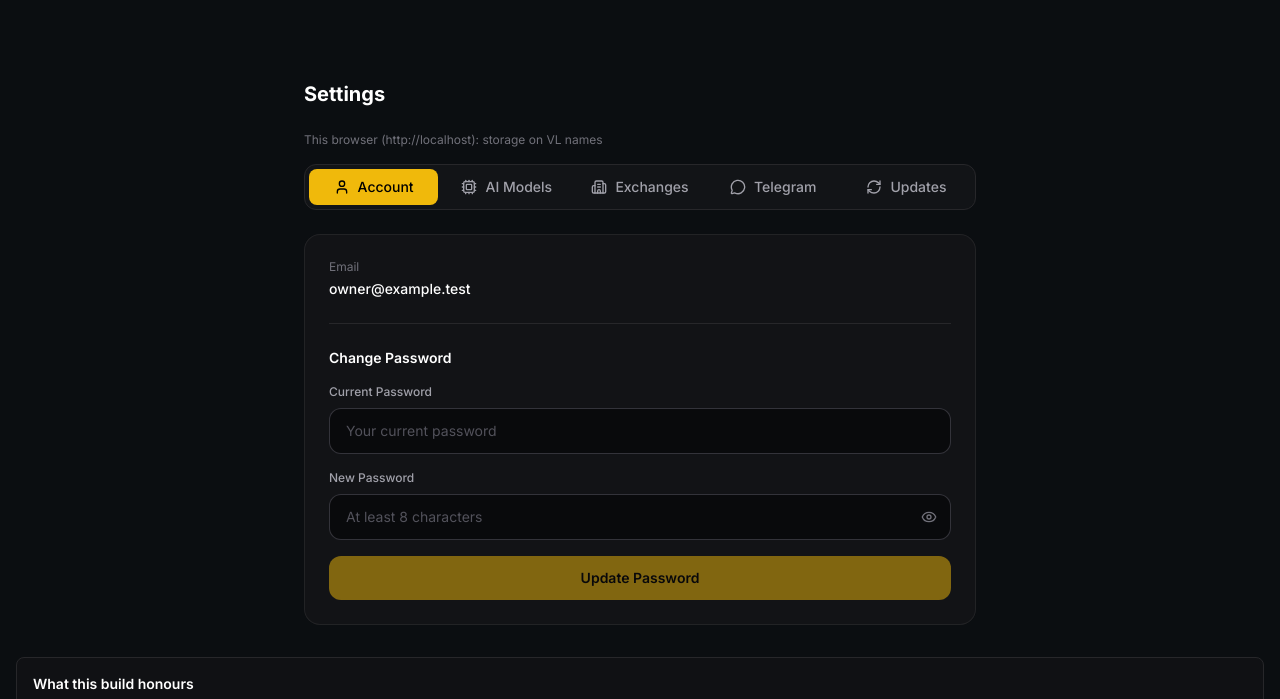
it: Settings → Account → Change password › shows the server 403 refusal text (wrong current password)
Type "a-wrong-guess" into the password field labelled "Current Password" at (640, 431), box [329, 408, 951, 454]
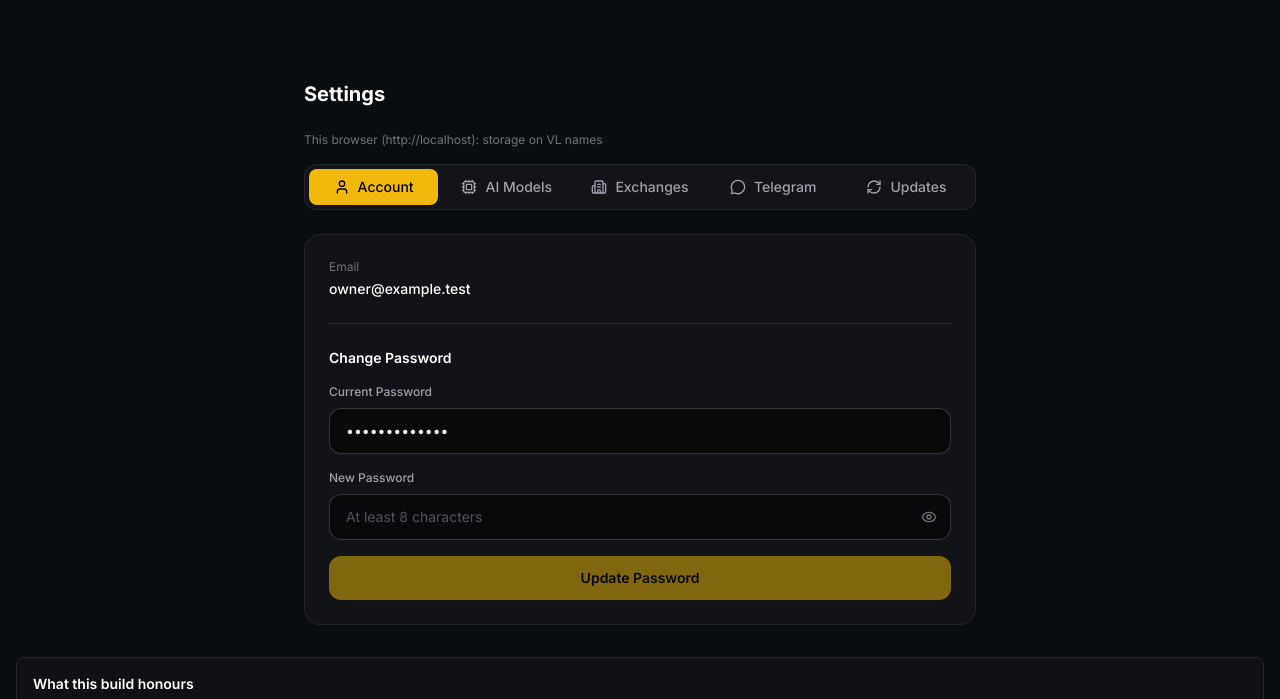
Type "the-new-pass-01" into the password field labelled "New Password" at (640, 517), box [329, 494, 951, 540]
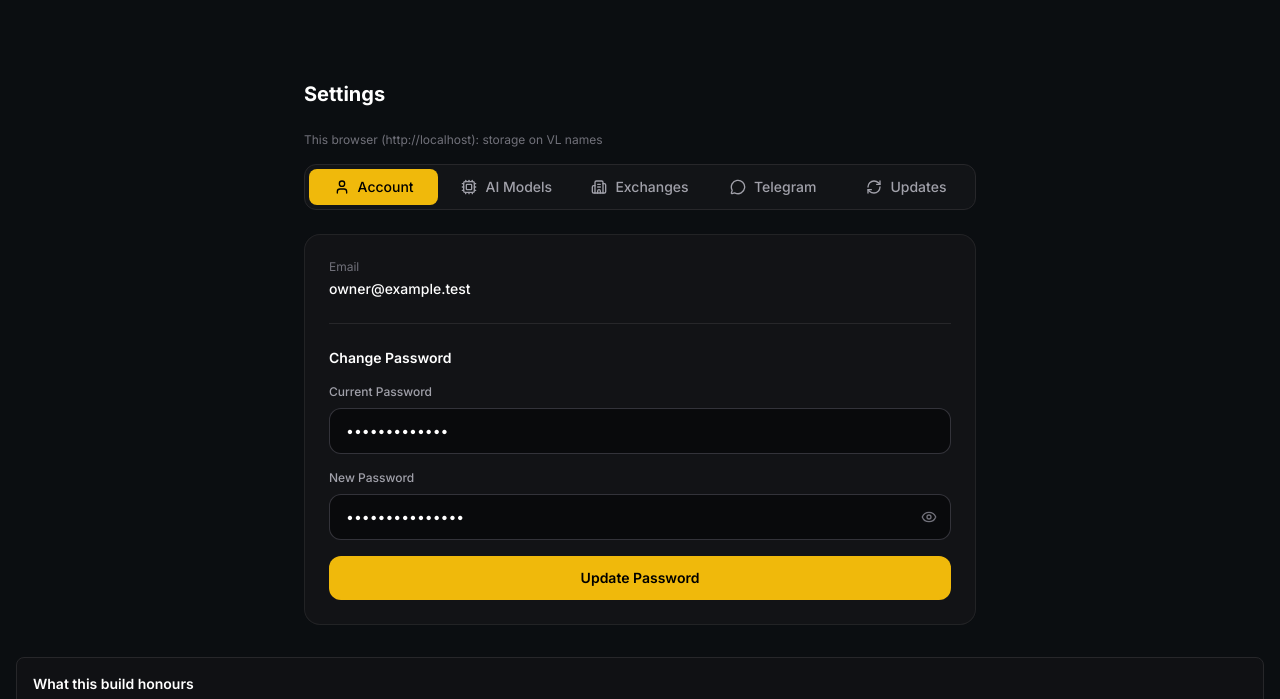
Click the button "Update Password" at (640, 578), box [329, 556, 951, 600]
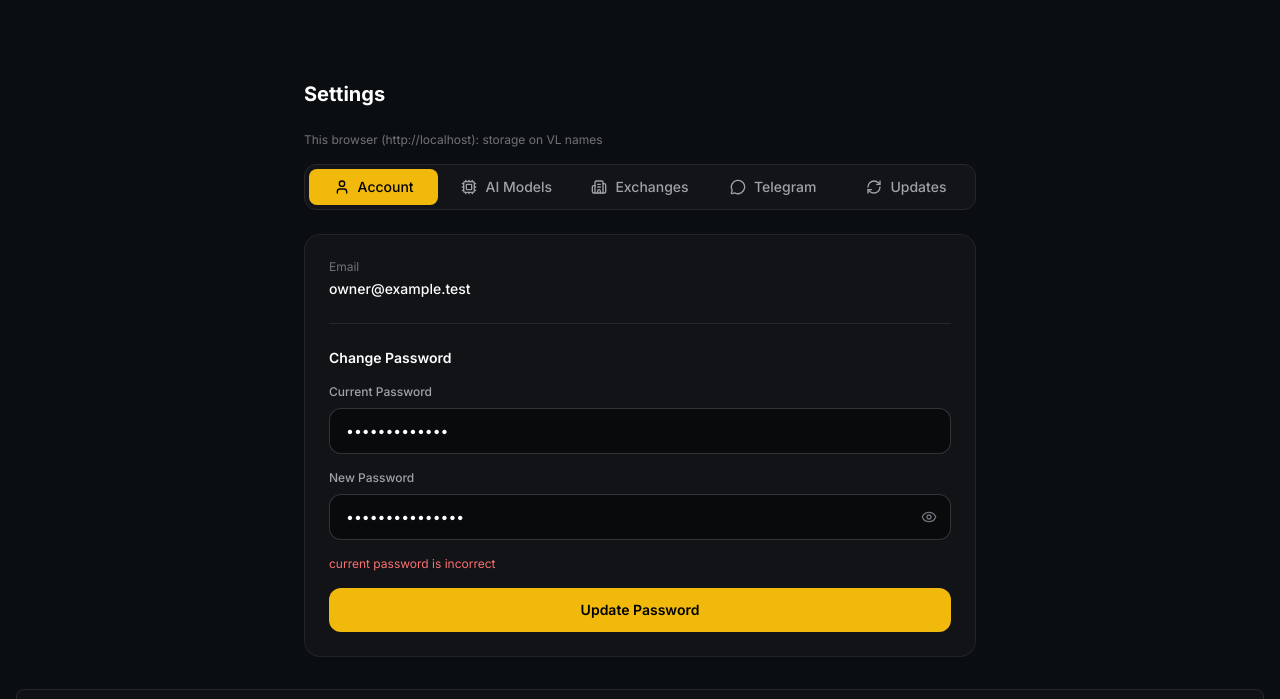
Expected: the message with test id "password-change-error" reads "current password is incorrect", [329, 556, 496, 571]
